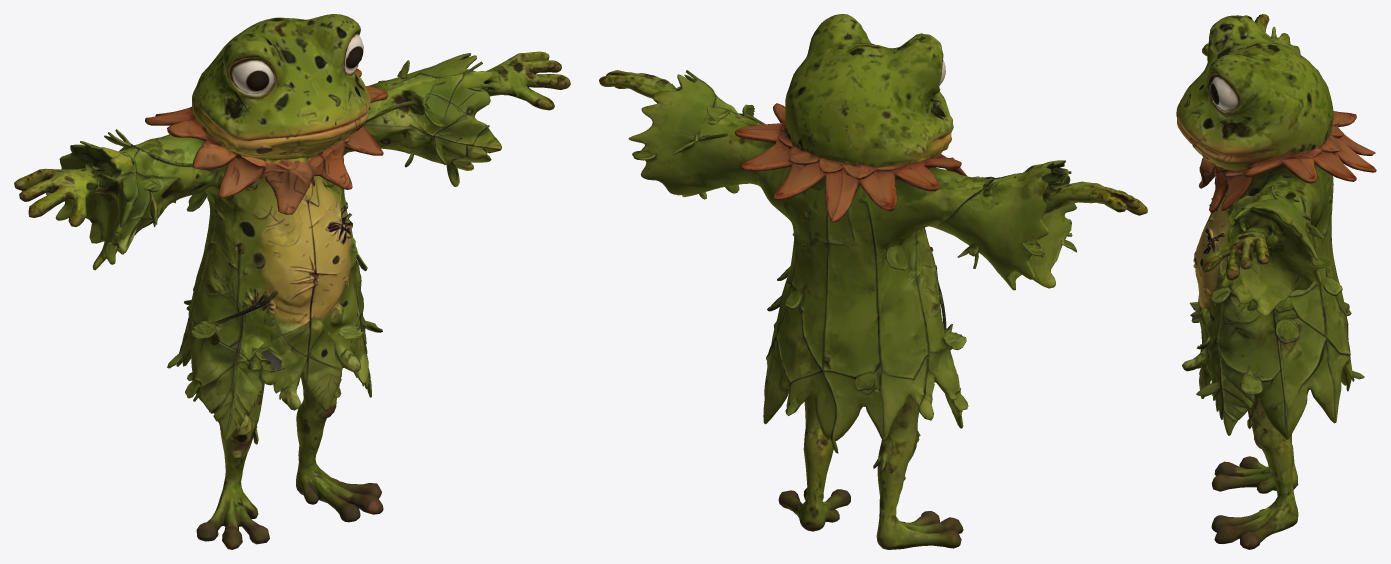
Rendered from twig.fbx.
The picture shows the model from 3 angles, left to right: view 1: azimuth 30°, elevation 25°; view 2: azimuth 150°, elevation 25°; view 3: azimuth 270°, elevation 25°; orthographic projection. The views are drawn at different scales.
Parts seen in each view (by area): view 1: twig; view 2: twig; view 3: twig.
Part boxes in pixels (x1,y1,x2,y2): twig: [14, 14, 570, 549]; twig: [599, 14, 1147, 549]; twig: [1176, 14, 1376, 549].
Bounding box in the file's own units: 1.36 × 1.2 × 0.4623.
1 material, 1 textured.
